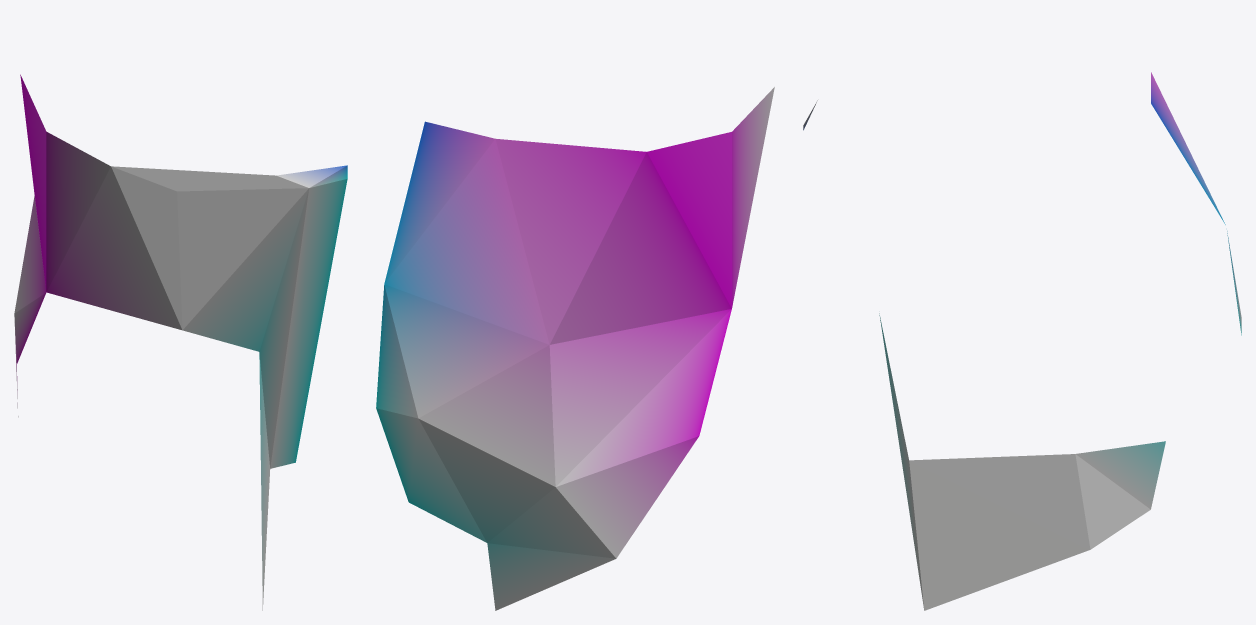
3 views of the same model, side by side, from view 1: azimuth 30°, elevation 25°; view 2: azimuth 150°, elevation 25°; view 3: azimuth 270°, elevation 25° (orthographic). The views are drawn at different scales.
Visible parts, largest first — view 1: model_11BF; view 2: model_11BF; view 3: model_11BF.
Boxes of the visible parts, bbox=[...] form: model_11BF: bbox=[14, 74, 347, 610]; model_11BF: bbox=[376, 87, 774, 610]; model_11BF: bbox=[803, 72, 1241, 610].
Bounding box in the file's own units: 16 × 38 × 29.
